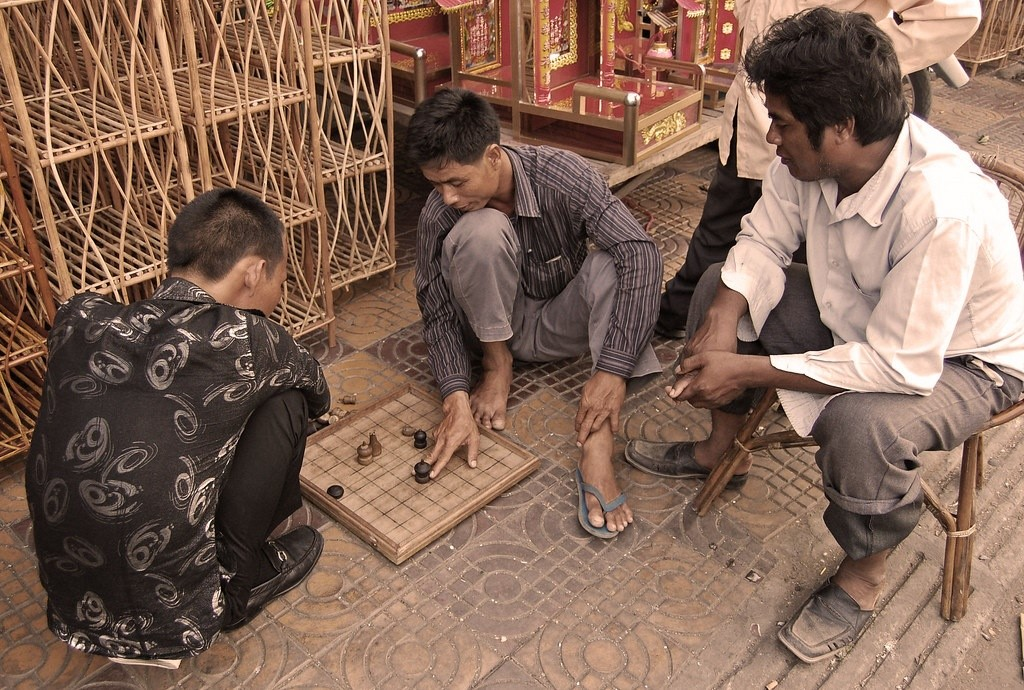face_no_mask: (765, 31, 905, 181), (167, 188, 287, 318), (411, 90, 507, 213)
